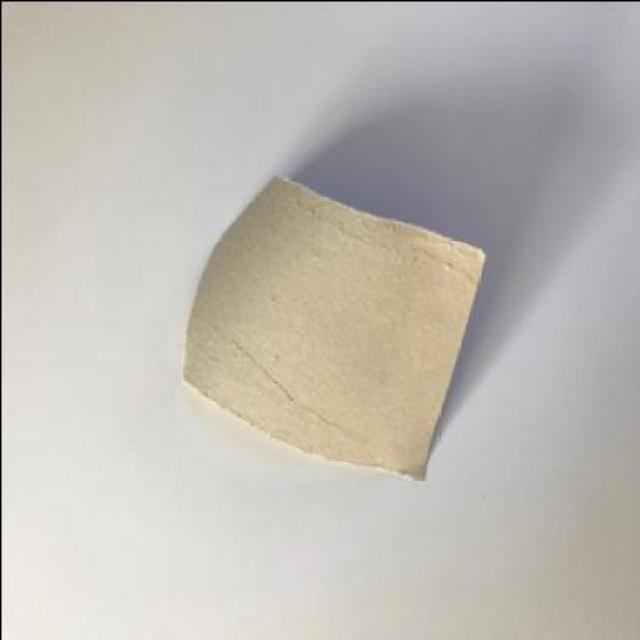CARDBOARD: (180, 177, 482, 481)
